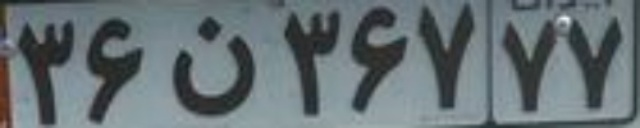3: (19, 18, 78, 125), (283, 10, 338, 118)
6: (347, 5, 408, 114), (86, 16, 143, 122)
7: (566, 13, 628, 110), (418, 1, 473, 109), (497, 18, 556, 110)
non: (171, 14, 255, 114)
